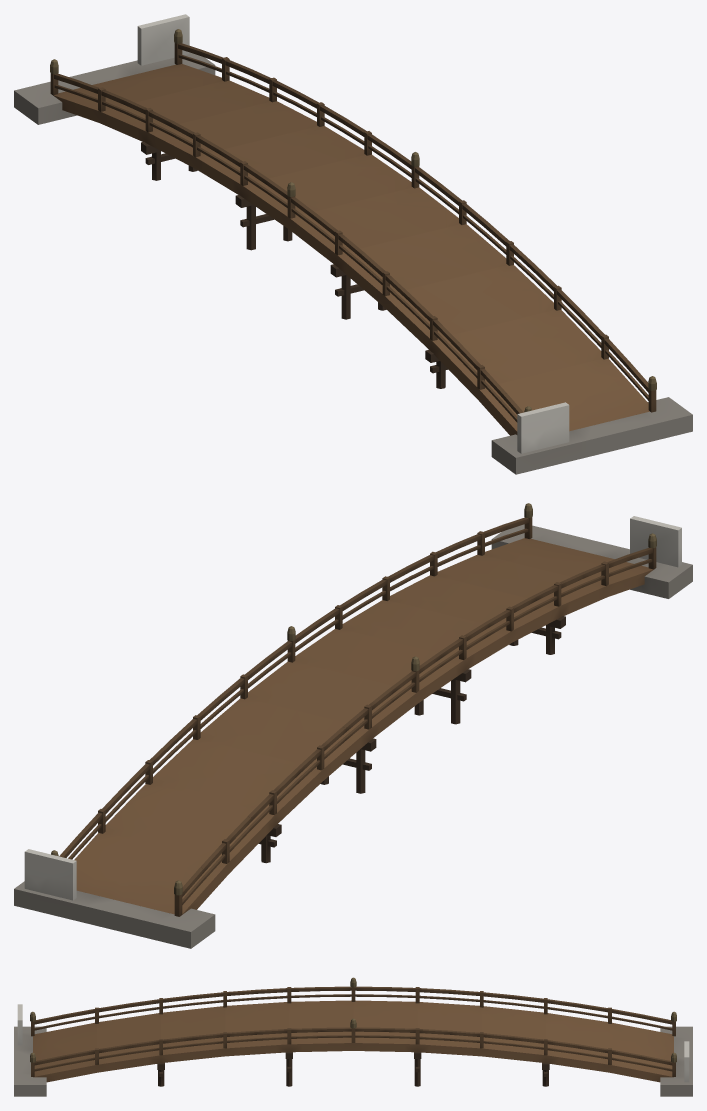
File: nihonbashi.glb
3 renders of one model, top to bottom at view 1: azimuth 30°, elevation 25°; view 2: azimuth 150°, elevation 25°; view 3: azimuth 270°, elevation 25°, orthographic. The views are drawn at different scales.
Visible parts, largest first — view 1: p1_bridge, p0_abutments, p2_notices; view 2: p1_bridge, p0_abutments, p2_notices; view 3: p1_bridge, p0_abutments, p2_notices.
Boxes of the visible parts, left/top/right/bottom form: p1_bridge: left=50, top=29, right=656, bottom=435; p0_abutments: left=14, top=52, right=692, bottom=474; p2_notices: left=137, top=14, right=569, bottom=453; p1_bridge: left=51, top=503, right=656, bottom=916; p0_abutments: left=14, top=524, right=692, bottom=948; p2_notices: left=24, top=516, right=681, bottom=900; p1_bridge: left=30, top=977, right=676, bottom=1086; p0_abutments: left=14, top=1026, right=692, bottom=1096; p2_notices: left=17, top=1004, right=689, bottom=1082.
Bounding box in the file's own units: 11 × 6.08 × 54.
